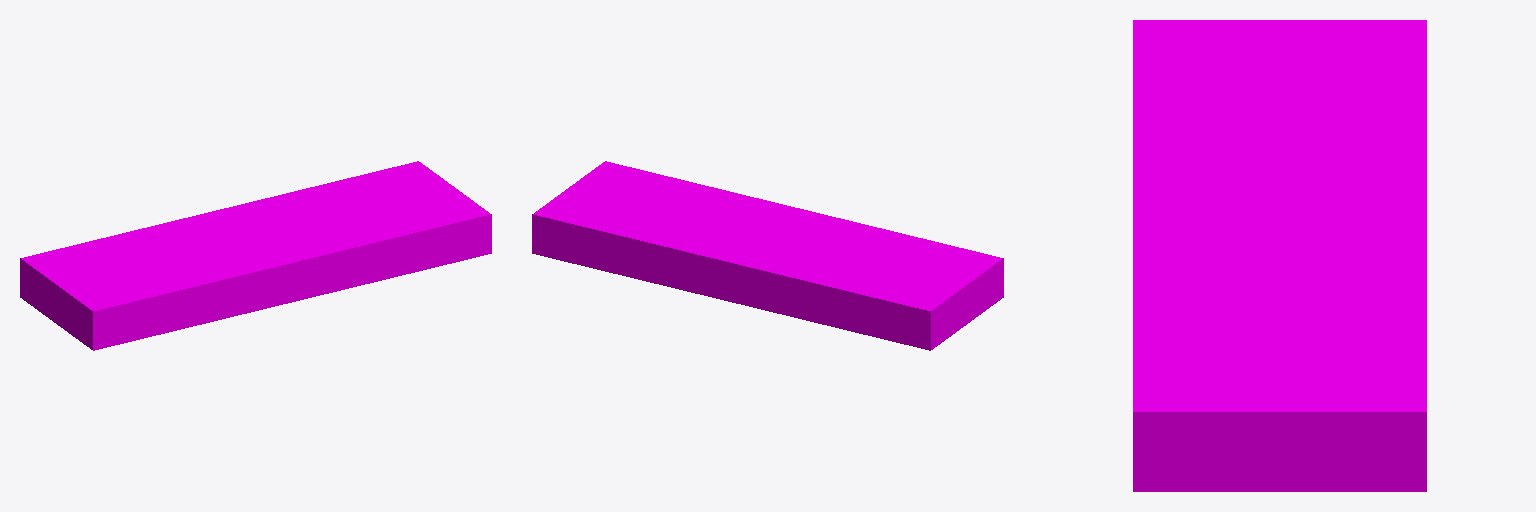
URDF robot description (slate.urdf):
<?xml version="0.0" ?>
<robot name="slate.urdf">
  <link name="baseLink">
    <contact>
      <lateral_friction value="1.0"/>
      <inertia_scaling value="3.0"/>
    </contact>
    <inertial>
      <origin rpy="0 0 0" xyz="0 0 0"/>
       <mass value=".6"/>
       <inertia ixx="1" ixy="0" ixz="0" iyy="1" iyz="0" izz="1"/>
    </inertial>
    <visual>
      <origin rpy="0 0 0" xyz="0 0 0"/>
      <geometry>
        <mesh filename="slate.obj" scale=".37 .117 .035"/>
      </geometry>
       <material name="purple">
        <color rgba="1 0 1 1"/>
      </material>
    </visual>
    <collision>
      <origin rpy="0 0 0" xyz="0 0 0"/>
      <geometry>
    <box size=".37 .117 .035"/>
      </geometry>
    </collision>
  </link>
</robot>

--- What the picture shows (computed from the rendered views, not written in the file) ---
The picture shows the robot from 3 angles, left to right: view 1: azimuth 30°, elevation 25°; view 2: azimuth 150°, elevation 25°; view 3: azimuth 270°, elevation 25°; orthographic projection.
Model slate.urdf with 1 links and 0 joints (none), rooted at baseLink, posed every joint at zero.
Visible links, largest first — view 1: baseLink; view 2: baseLink; view 3: baseLink.
Boxes of the visible links, left/top/right/bottom form: baseLink: left=20, top=161, right=491, bottom=350; baseLink: left=532, top=161, right=1003, bottom=350; baseLink: left=1133, top=20, right=1426, bottom=491.
Size in the robot's own frame: 0.37 by 0.117 by 0.035 metres.
Meshes: 1 distinct files referenced, 1 mesh visuals loaded (1 OBJ).